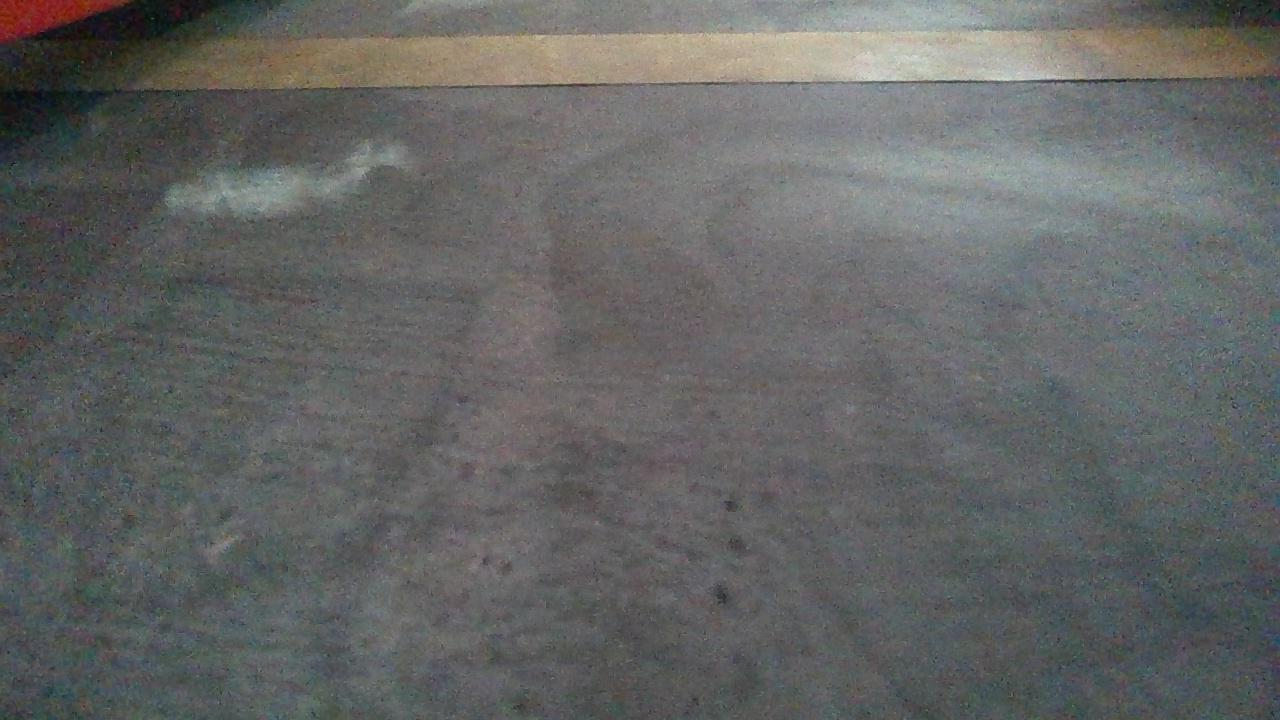yellow_line: (20, 21, 1280, 85)
